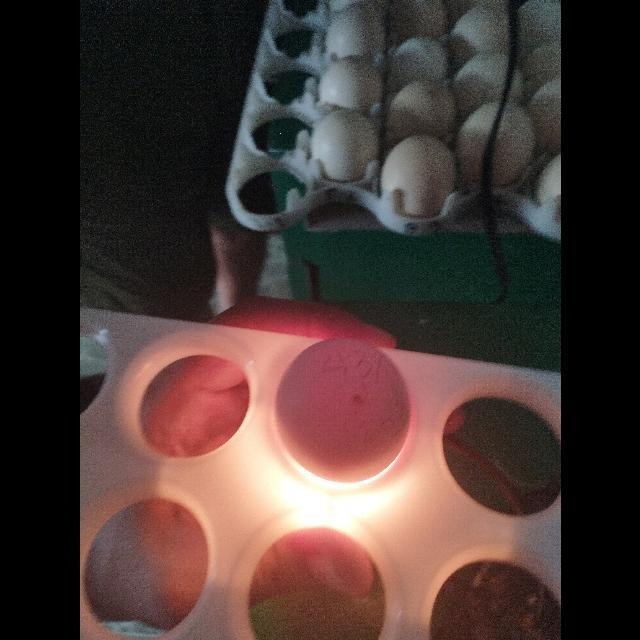Fertile: (271, 334, 414, 486)
